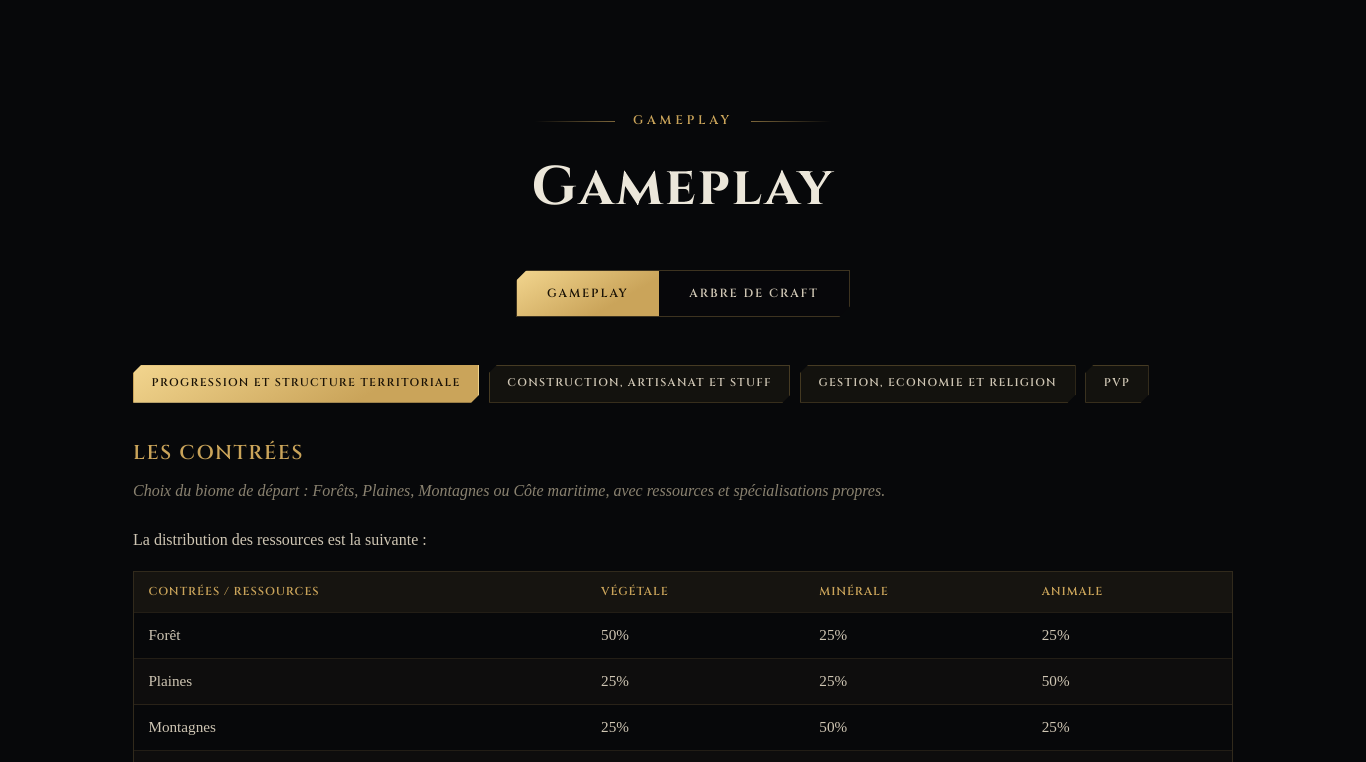
Test case: page Gameplay › change de catégorie au clic sur un onglet
Step 1. Click the tab with class "categories__tab" that starts with "Construction, Artisanat et Stuff" → (640,384), box [489,365,790,403]
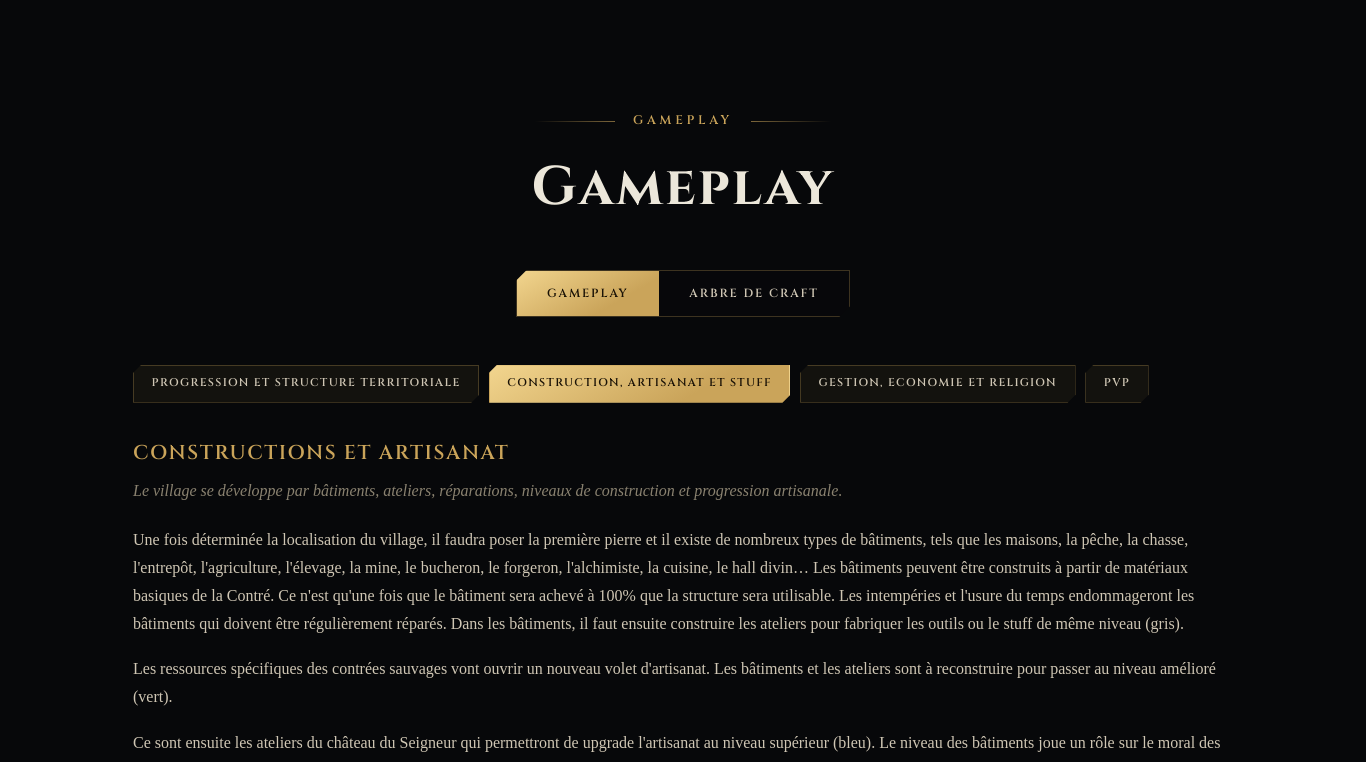
expect the text "Constructions et artisanat" is shown: met, box [133,439,509,466]
